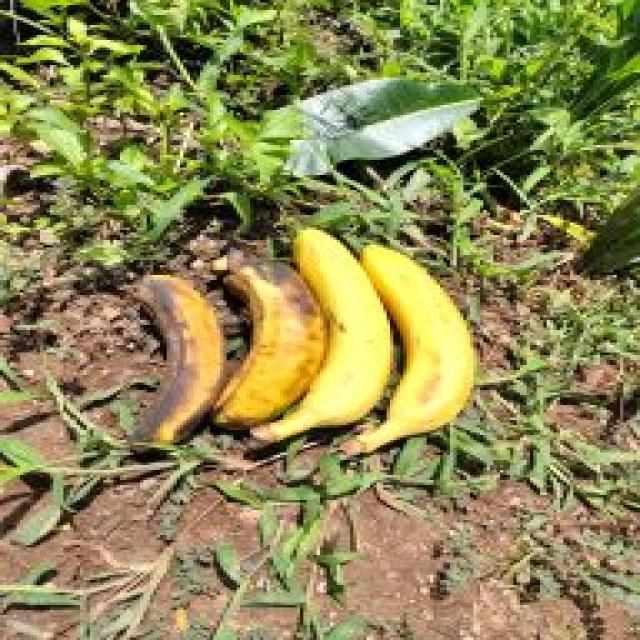Organik: (248, 191, 394, 458), (348, 238, 502, 476), (200, 221, 319, 438), (115, 275, 227, 456)
